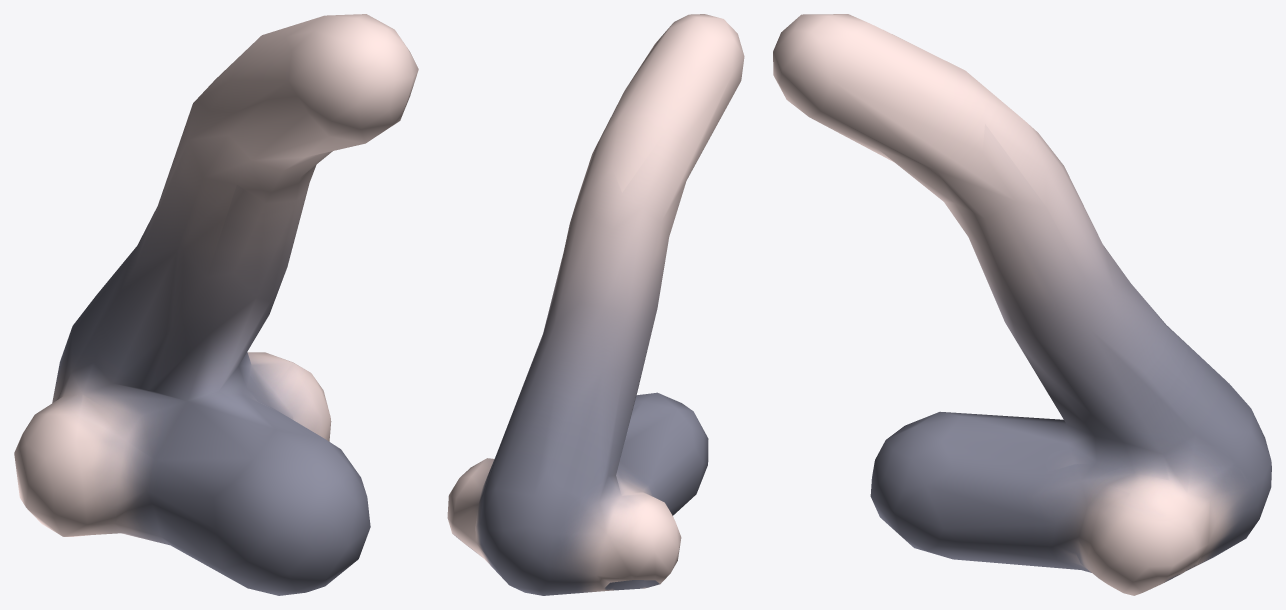
File: nose_rome.dae
3 views of the same model, side by side, from view 1: azimuth 30°, elevation 25°; view 2: azimuth 150°, elevation 25°; view 3: azimuth 270°, elevation 25° (orthographic). The views are drawn at different scales.
Visible parts, largest first — view 1: nose_rome; view 2: nose_rome; view 3: nose_rome.
Part boxes in pixels (bbox=[...]): nose_rome: bbox=[14, 14, 418, 595]; nose_rome: bbox=[447, 14, 744, 595]; nose_rome: bbox=[773, 14, 1271, 595].
Size of the model in its own units: 0.3959 by 0.6599 by 0.8051.
1 material, 1 textured.
